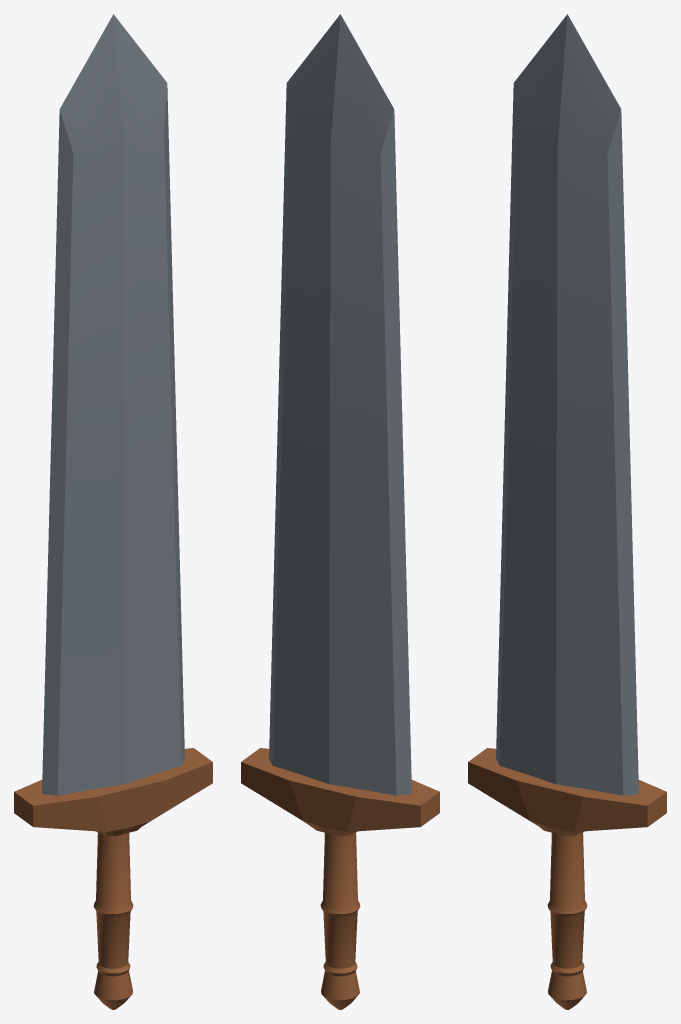
The model's file is Sword.fbx.
3 renders of one model, left to right at view 1: azimuth 30°, elevation 25°; view 2: azimuth 150°, elevation 25°; view 3: azimuth 330°, elevation 25°, orthographic.
Visible parts, largest first — view 1: Sword; view 2: Sword; view 3: Sword.
Part boxes in pixels (x1,y1,x2,y2): Sword: (14, 14, 212, 1009); Sword: (241, 14, 439, 1009); Sword: (468, 14, 666, 1009).
Bounding box in the file's own units: 61.13 × 323 × 20.82.
